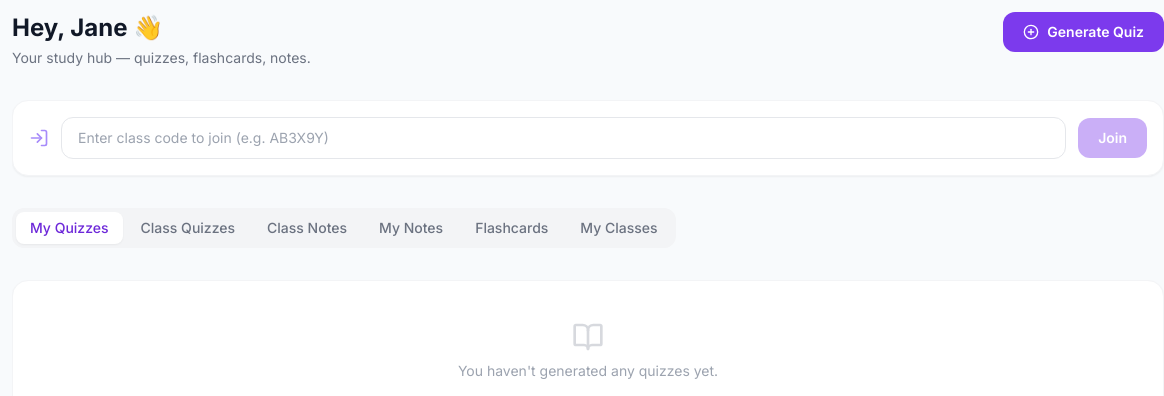
Test: StudentDashboard - FEAT-008 Quiz Sharing › AC-8.1.3: Only is_shared=true quizzes from GET /classes/student/content are displayed › displays empty state when no shared quizzes exist
# Switch to class quizzes tab
Click the button "Class Quizzes" at coordinates (188, 228), box top-left (127, 212), bottom-right (249, 244)
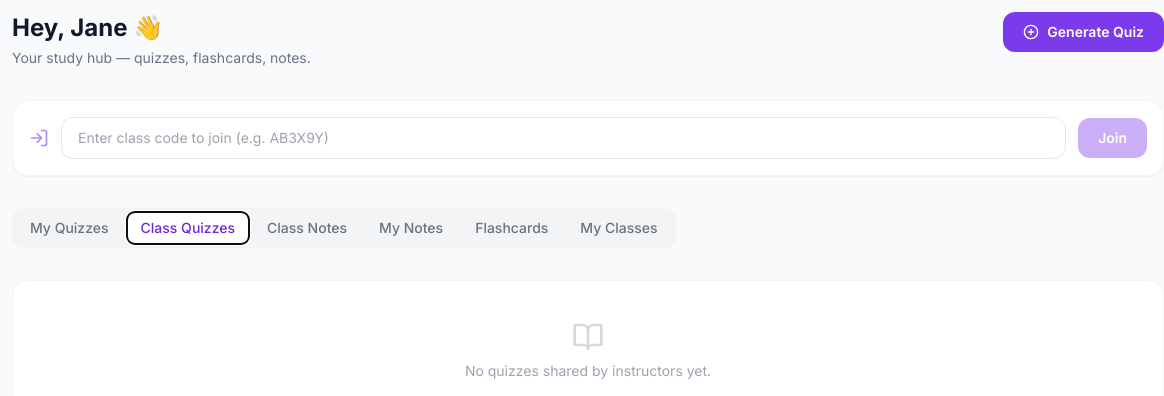
Now the text "No quizzes shared by instructors yet." is shown, box top-left (465, 362), bottom-right (711, 379)
